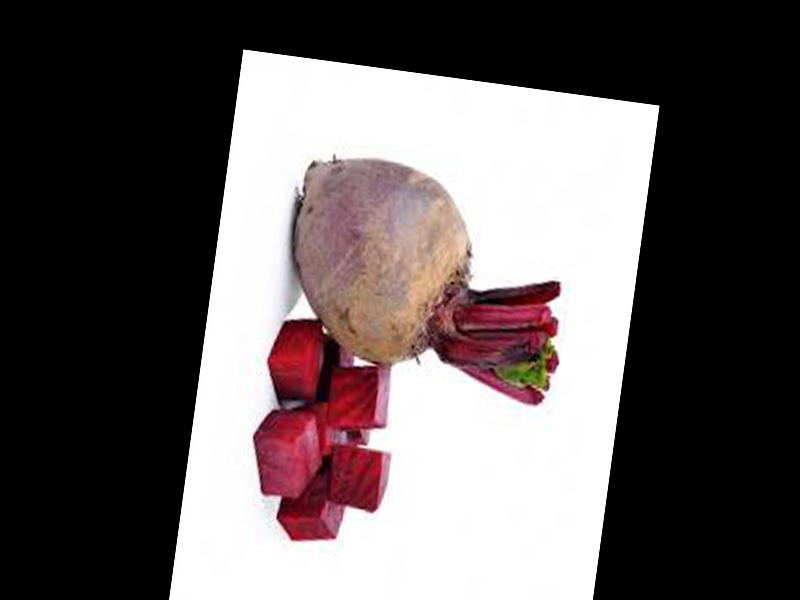Beet: (274, 150, 579, 406)
